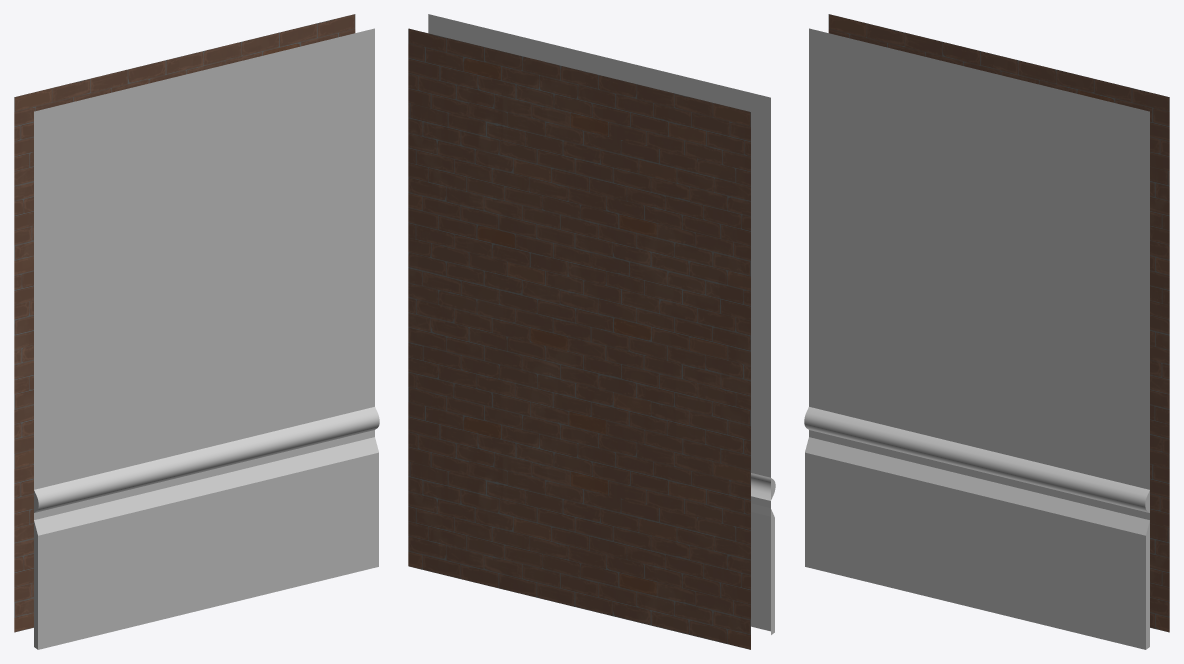
File: Trim_FirstFloor_Wall.gltf
3 renders of one model, left to right at view 1: azimuth 30°, elevation 25°; view 2: azimuth 150°, elevation 25°; view 3: azimuth 330°, elevation 25°, orthographic.
Parts seen in each view (by area): view 1: Trim_FirstFloor_Wall; view 2: Trim_FirstFloor_Wall; view 3: Trim_FirstFloor_Wall.
Part boxes in pixels (x1=…): Trim_FirstFloor_Wall: x1=14, y1=14, x2=379, y2=649; Trim_FirstFloor_Wall: x1=408, y1=14, x2=775, y2=649; Trim_FirstFloor_Wall: x1=804, y1=14, x2=1169, y2=649.
Size of the model in its own units: 2 by 3 by 0.2478.
